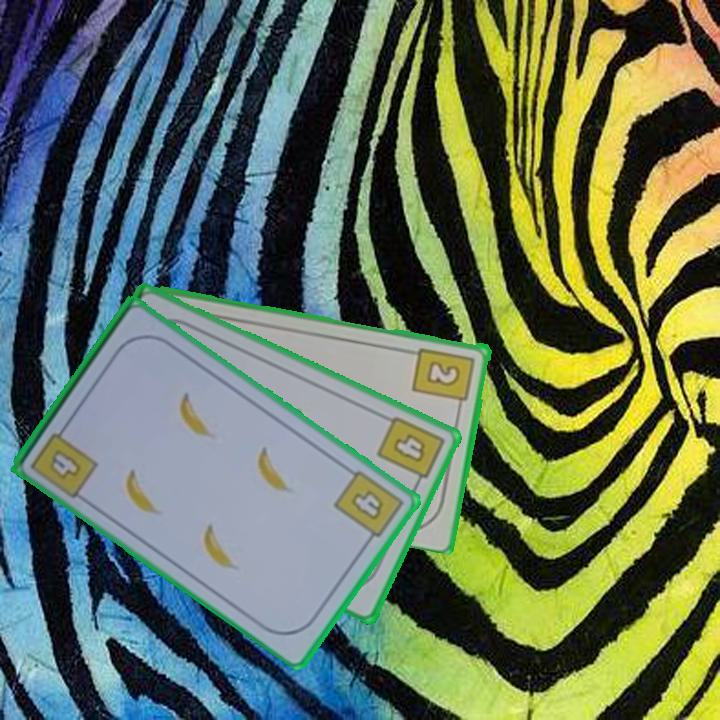2b: (410, 343, 478, 413)
4b: (330, 466, 407, 548), (27, 419, 101, 502), (373, 412, 448, 491)
